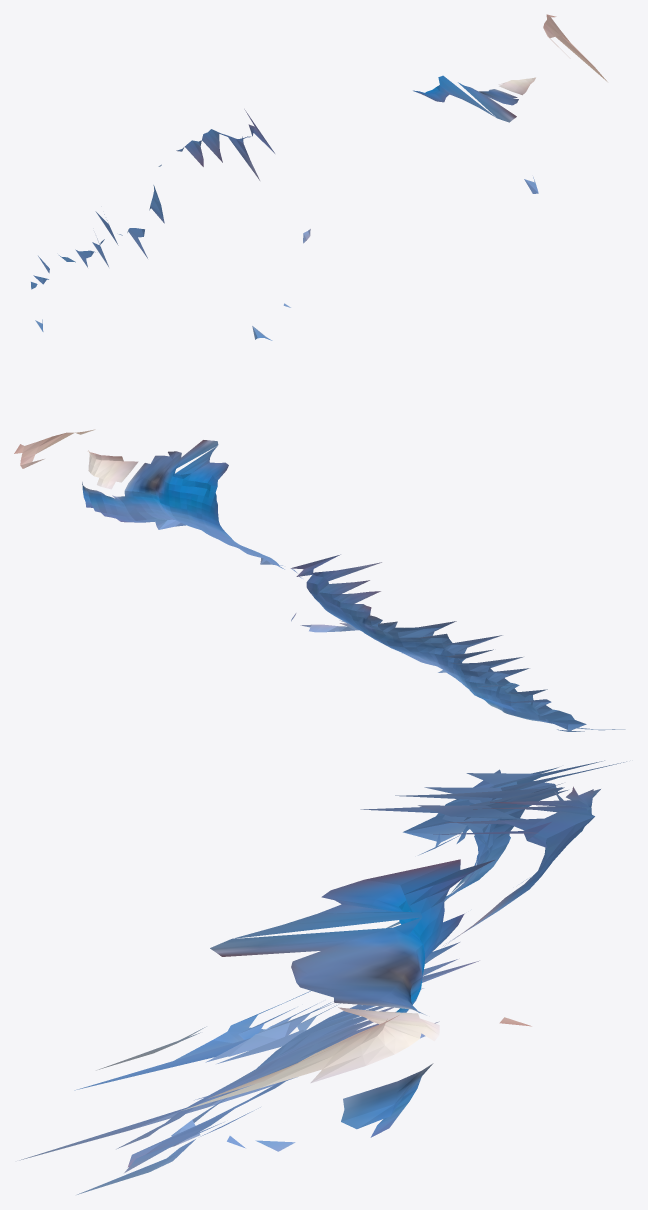
Rendered from observed-surface.glb.
3 renders of one model, top to bottom at view 1: azimuth 30°, elevation 25°; view 2: azimuth 150°, elevation 25°; view 3: azimuth 270°, elevation 25°, orthographic. The views are drawn at different scales.
Visible parts, largest first — view 1: geometry_0; view 2: geometry_0; view 3: geometry_0.
Boxes of the visible parts, box(x1,y1,x2,y2) form: geometry_0: box(31, 14, 607, 340); geometry_0: box(14, 429, 625, 731); geometry_0: box(19, 760, 626, 1194).
Size of the model in its own units: 0.685 by 0.2511 by 0.3426.
Materials: 1 (1 with a texture image).
